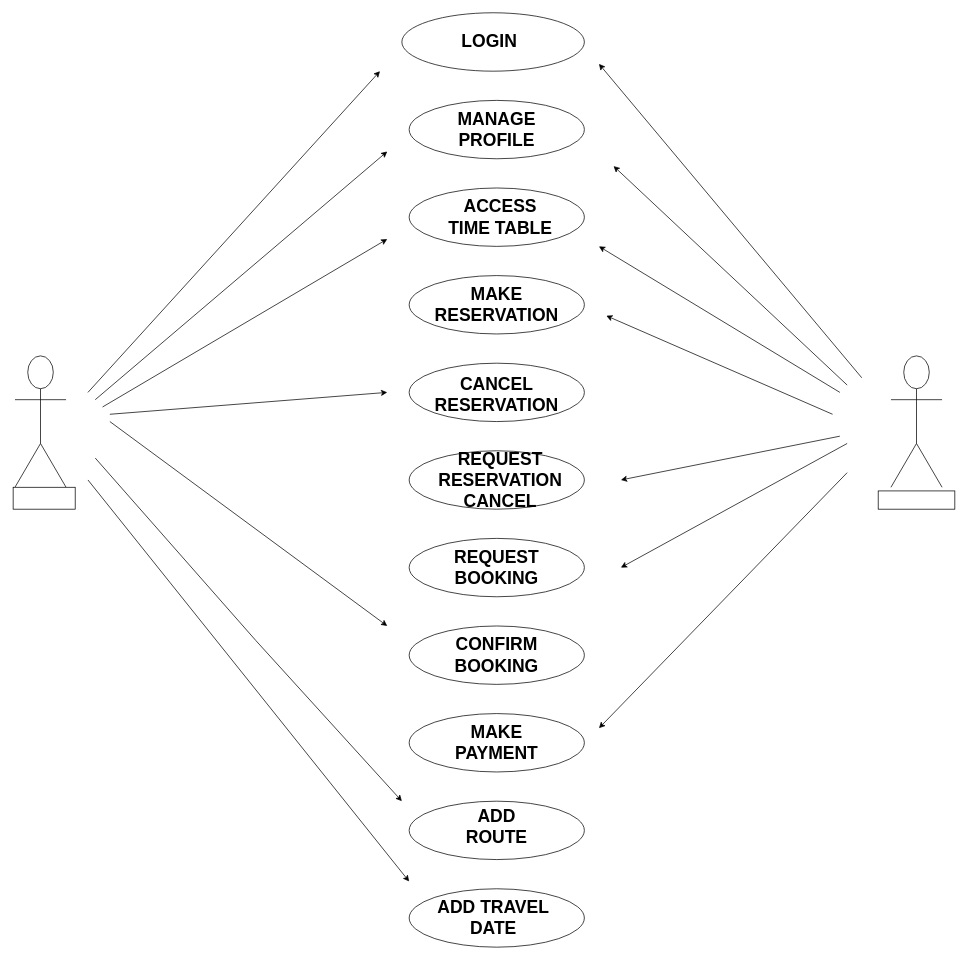
Some shapes in this 967 by 960 pixel diagram are drawn without their labels. The centre of each missing label's shape, as x and y in pixels:
ADMIN: the point at 43,498
USER: the point at 916,499
